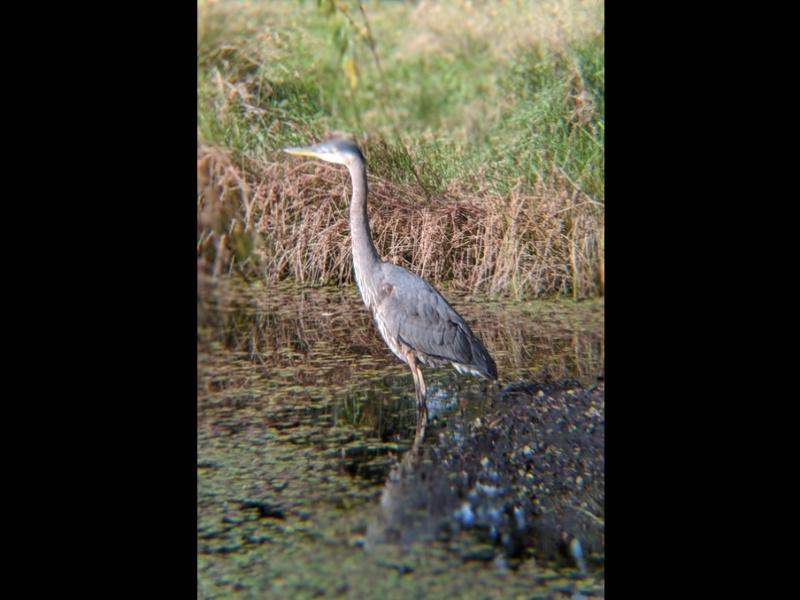heron: (281, 135, 498, 423)
